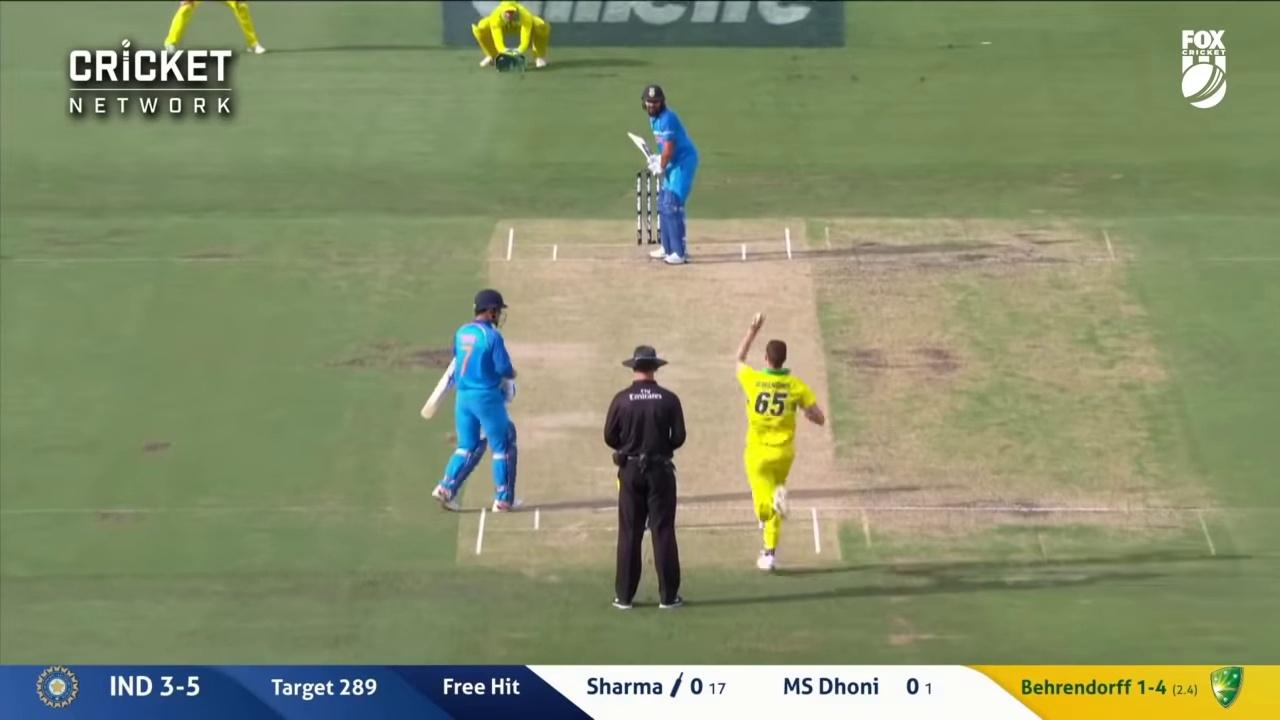batsman: (630, 87, 699, 259)
